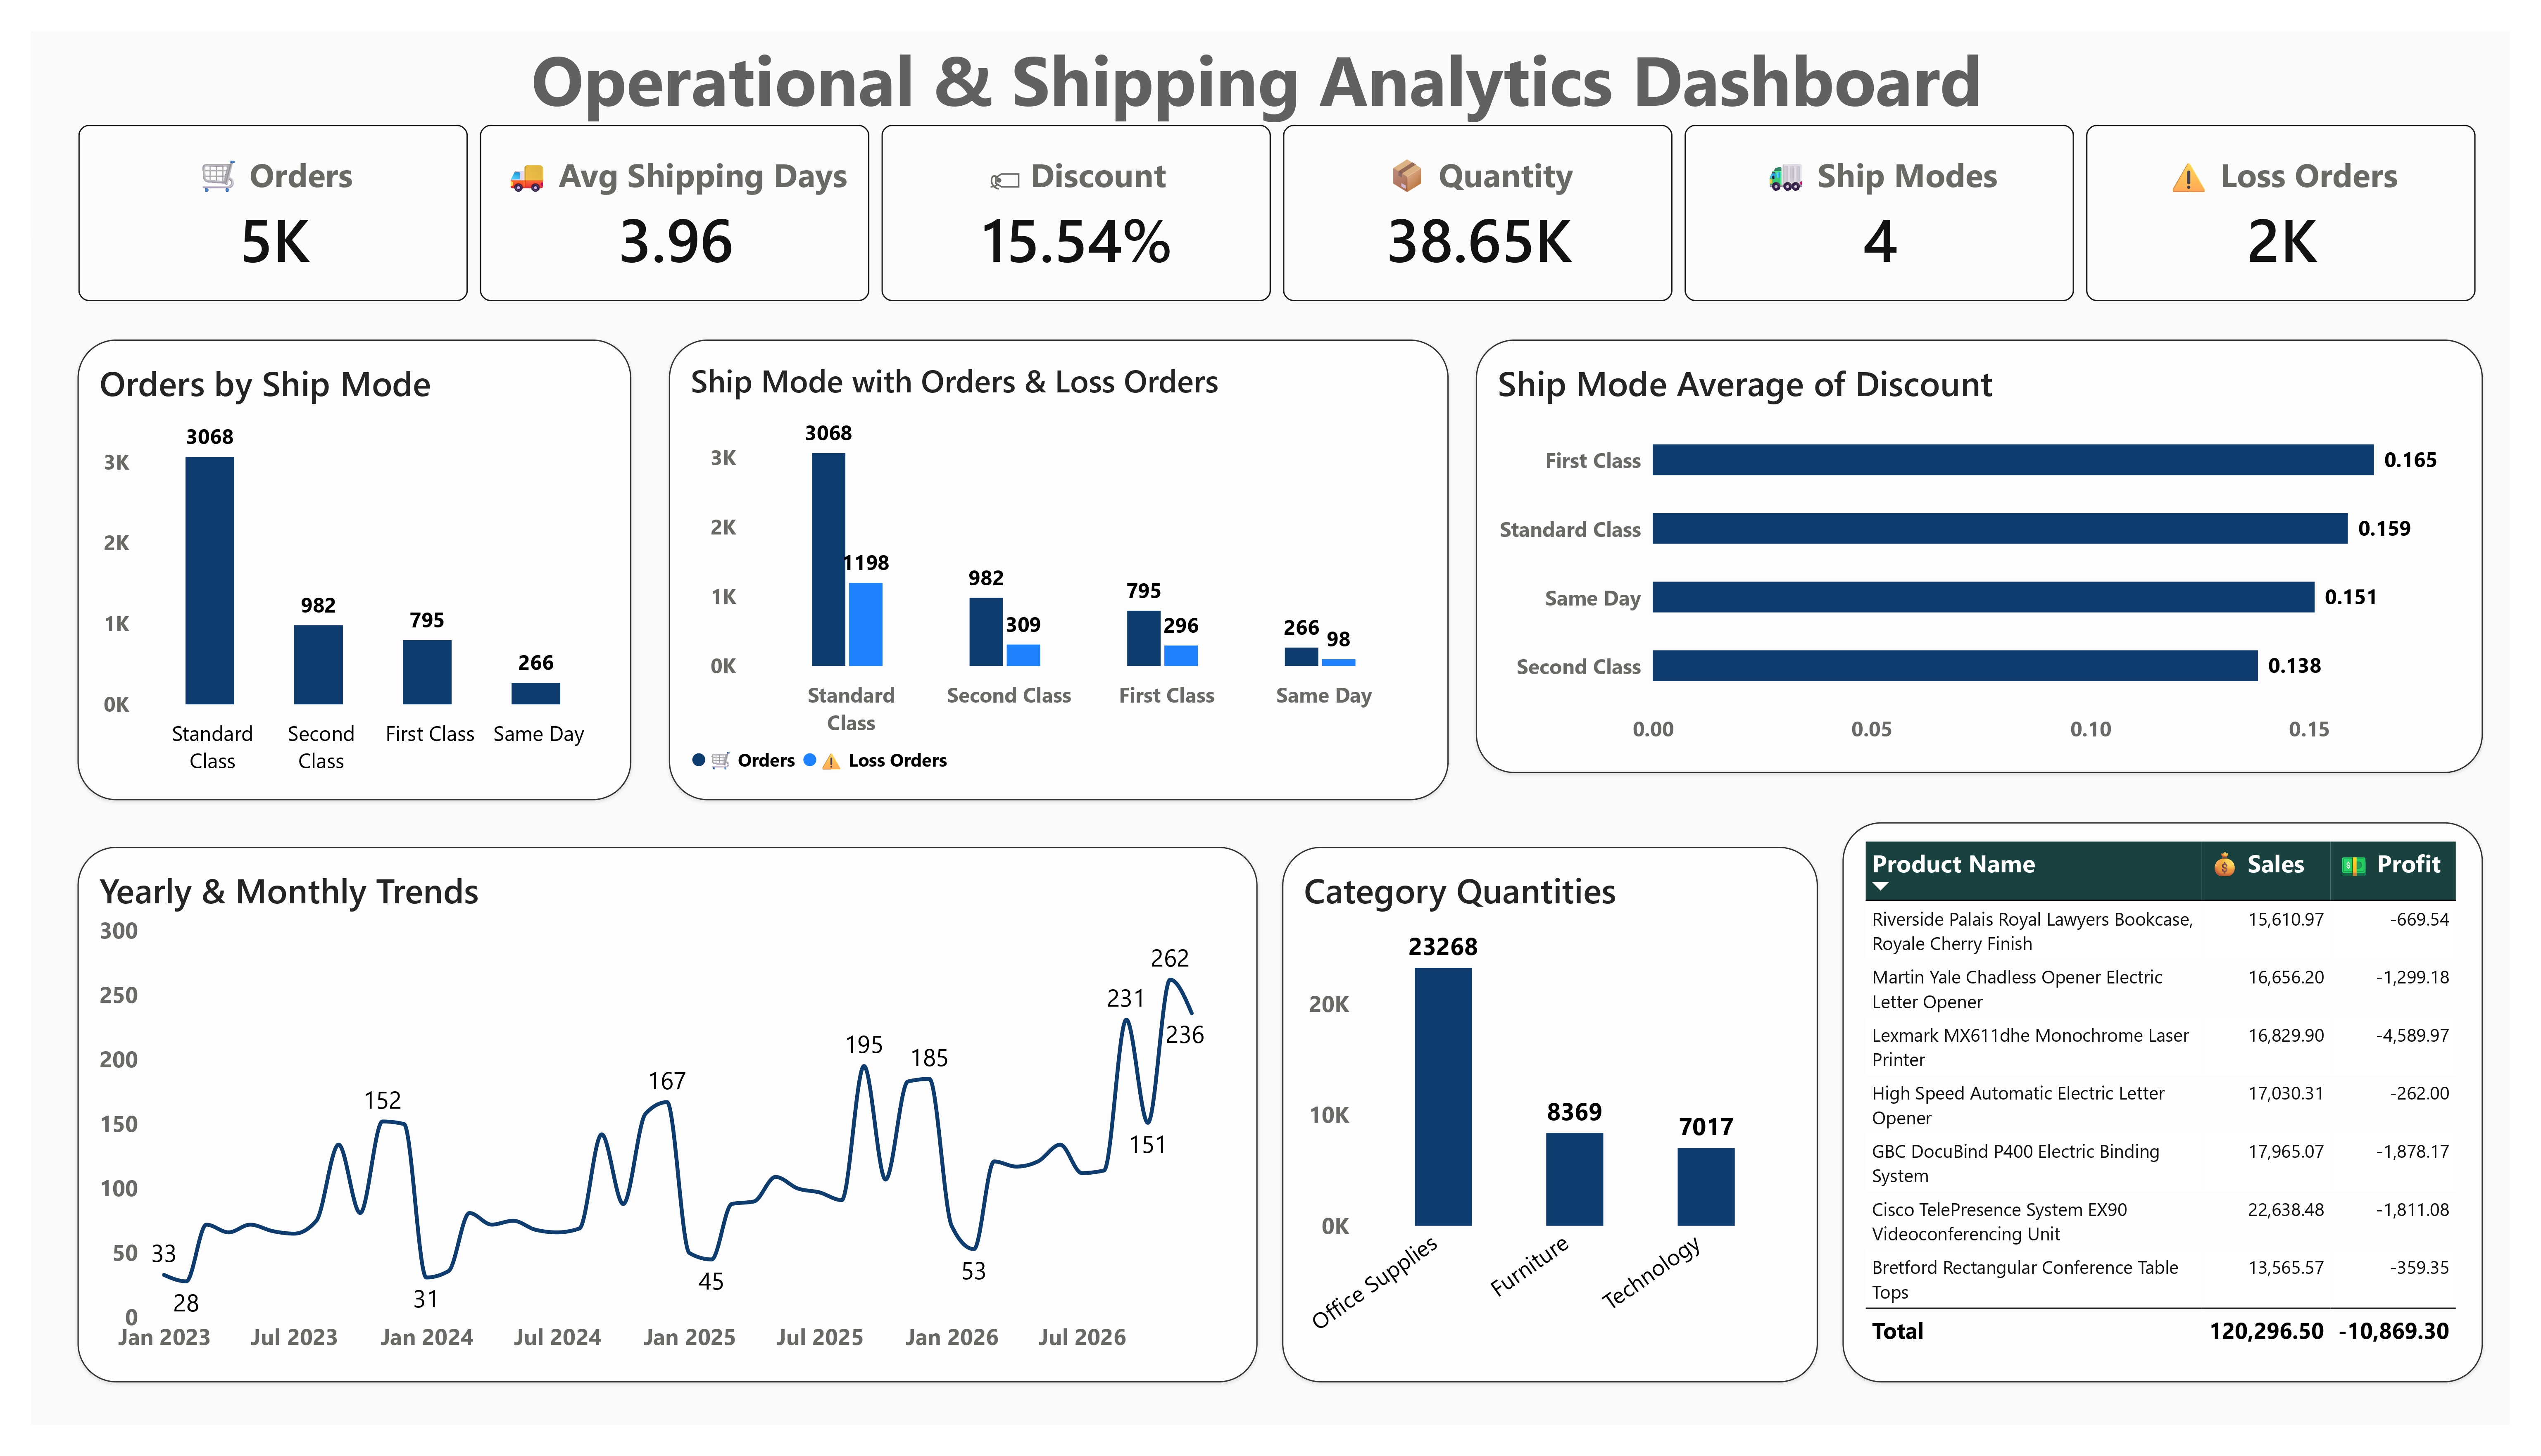

What the dashboard file says about the page in this screenshot:
{"tool":"powerbi","page":{"name":"Operational & Shipping Analytics Dashboard","canvas":[1920,1080],"ordinal":3},"visuals":[{"type":"cardVisual","fields":{"Data":["Orders$.🛒 Orders","Orders$.🚚 Avg Shipping Days","Orders$.🏷 Discount","Orders$.📦 Quantity","Orders$.🚛 Ship Modes","Orders$.⚠️ Loss Orders"]},"box":[35.8,71.6,1863.4,138.4],"z":0},{"type":"textbox","box":[0,0,1899.2,71.6],"z":1},{"type":"columnChart","title":"Orders by Ship Mode","fields":{"Category":["Orders$.Ship Mode"],"Y":["Orders$.🛒 Orders"]},"box":[35.8,238.6,429.5,357.9],"z":2},{"type":"lineChart","title":"Yearly & Monthly Trends","fields":{"Category":["Orders$.Order Date.Variation.Date Hierarchy.Year","Orders$.Order Date.Variation.Date Hierarchy.Month"],"Y":["Orders$.🛒 Orders"]},"box":[35.8,632.3,913.8,415.1],"z":3},{"type":"clusteredColumnChart","title":"Ship Mode with Orders & Loss Orders","fields":{"Category":["Orders$.Ship Mode"],"Y":["Orders$.🛒 Orders","Orders$.⚠️ Loss Orders"]},"box":[493.9,238.6,603.6,357.9],"z":4},{"type":"clusteredBarChart","title":" Ship Mode Average of Discount","fields":{"Category":["Orders$.Ship Mode"],"Y":["Avg(Orders$.Discount)"]},"box":[1119,238.6,780.2,336.4],"z":5},{"type":"columnChart","title":"Category Quantities","fields":{"Category":["Orders$.Category"],"Y":["Orders$.📦 Quantity"]},"box":[968.7,632.3,415.1,415.1],"z":6},{"type":"tableEx","fields":{"Values":["Orders$.Product Name","Orders$.💰 Sales","Orders$.💵 Profit"]},"box":[1402.9,613.2,496.3,434.2],"z":7}]}

Visuals, with their boxes on the page's 1920x1080 design canvas (x1, y1, x2, y2). These are canvas units, not pixel positions in the 2541x1456 screenshot, which may show the page scaled, cropped or inside an application window:
cardVisual - Orders$.🛒 Orders x Orders$.🚚 Avg Shipping Days: select_region(36, 72, 1899, 210)
textbox: select_region(0, 0, 1899, 72)
"Orders by Ship Mode" columnChart: select_region(36, 239, 465, 596)
"Yearly & Monthly Trends" lineChart: select_region(36, 632, 950, 1047)
"Ship Mode with Orders & Loss Orders" clusteredColumnChart: select_region(494, 239, 1098, 596)
" Ship Mode Average of Discount" clusteredBarChart: select_region(1119, 239, 1899, 575)
"Category Quantities" columnChart: select_region(969, 632, 1384, 1047)
tableEx - Orders$.Product Name x Orders$.💰 Sales: select_region(1403, 613, 1899, 1047)
